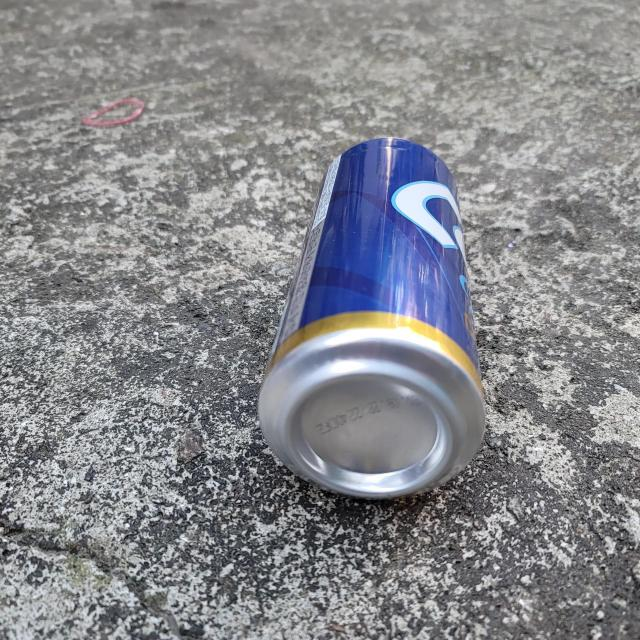can: (258, 137, 486, 500)
